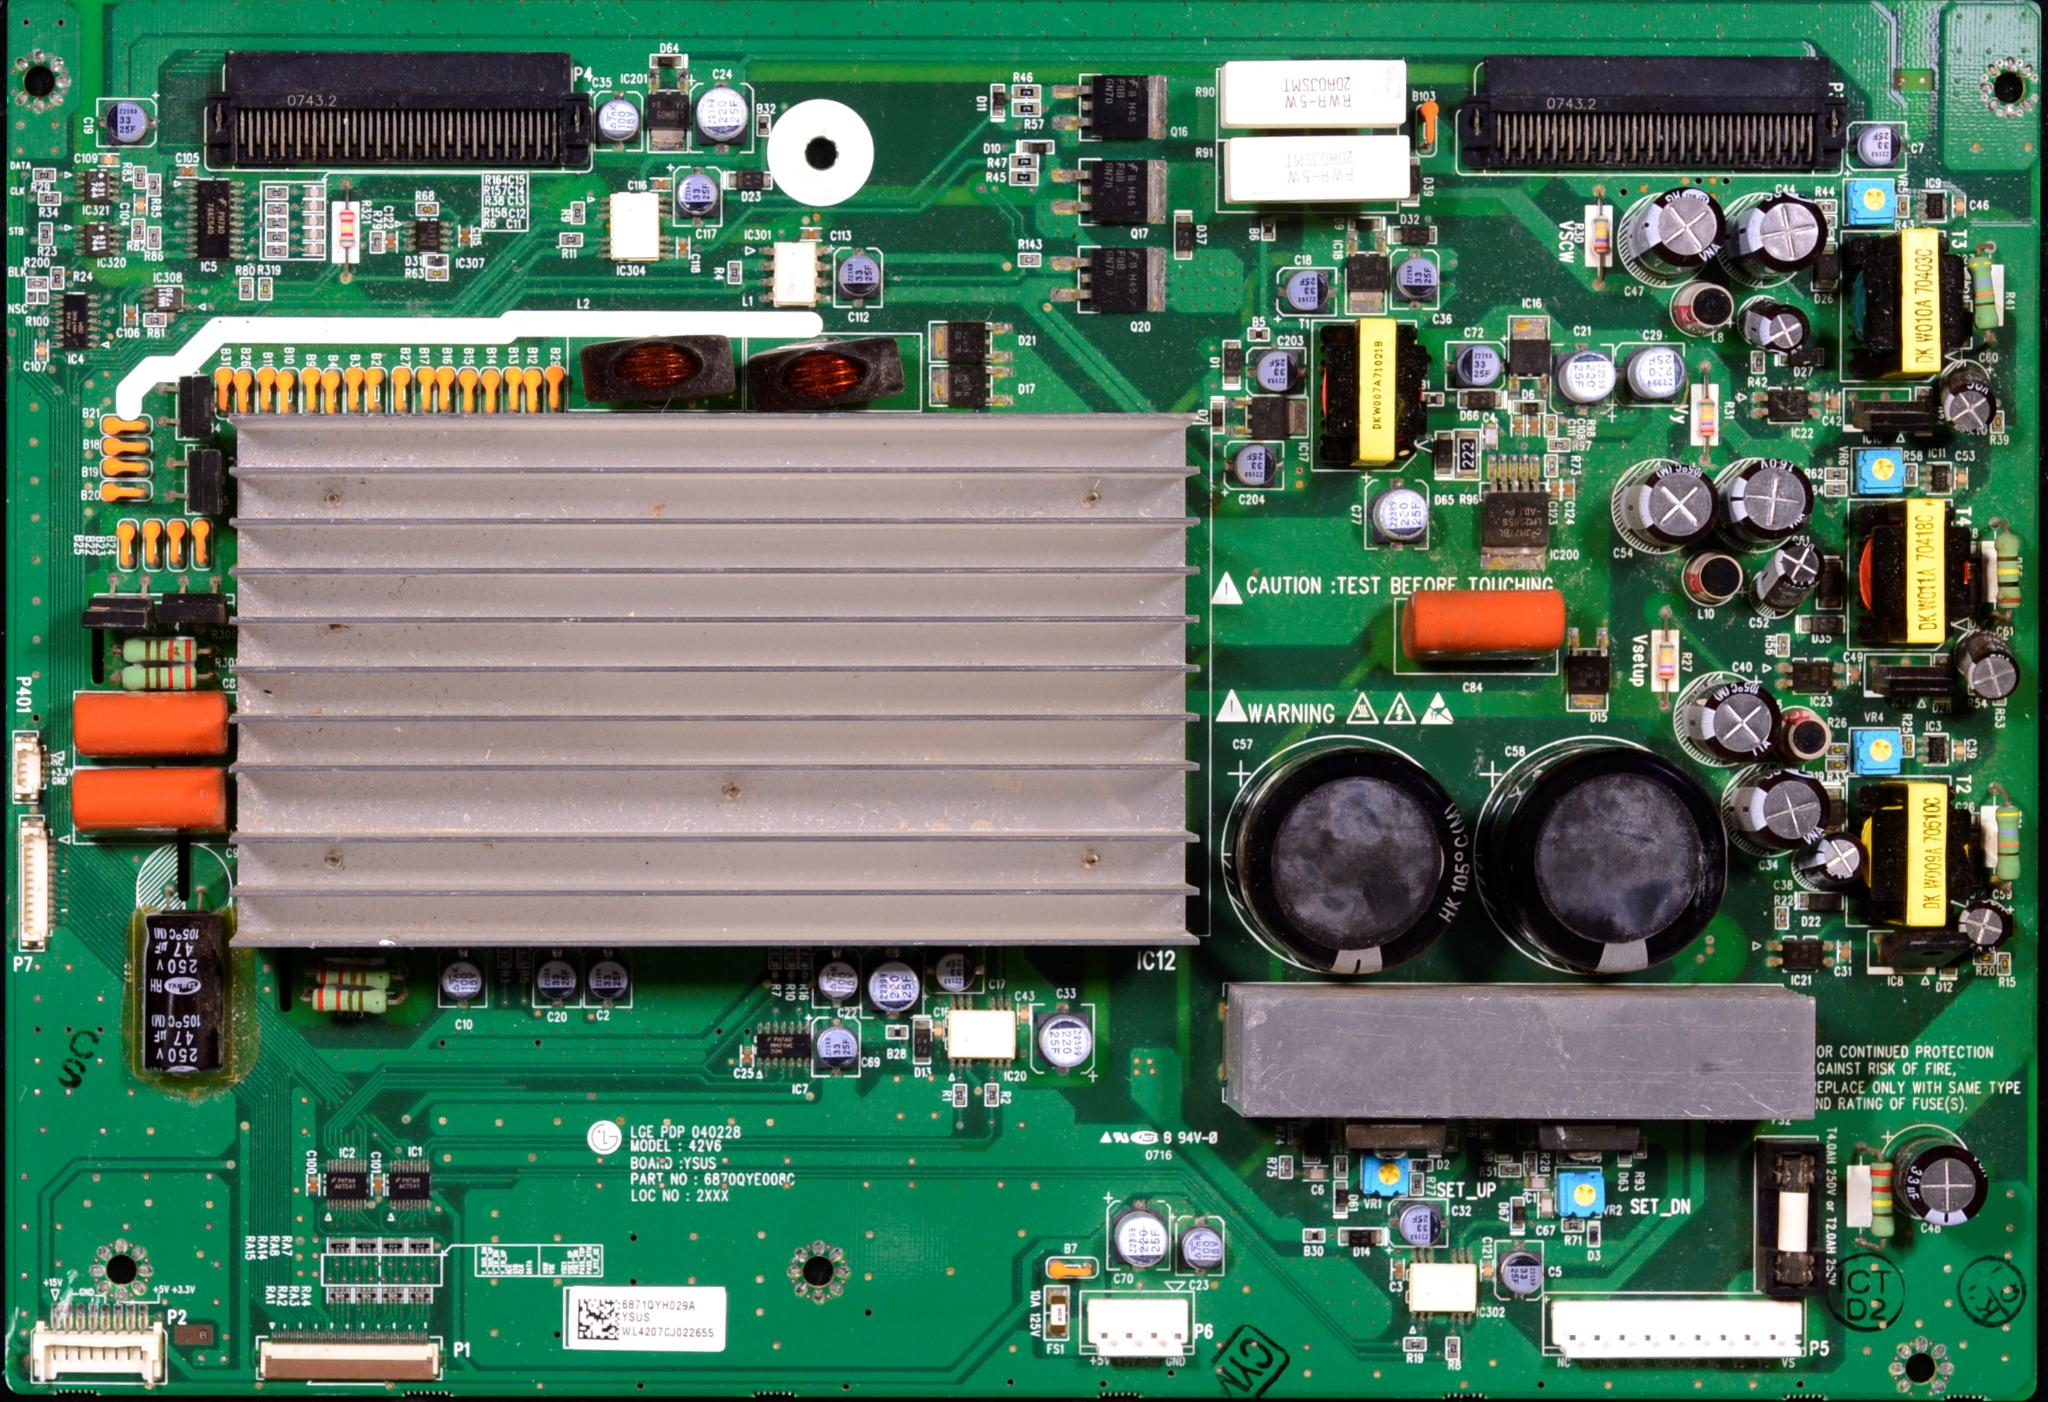Capacitor Jumper: (1226, 736, 1471, 976), (1483, 739, 1727, 973), (1390, 587, 1561, 677), (1620, 190, 1709, 283), (1721, 191, 1807, 288), (1625, 459, 1720, 545), (1902, 1137, 1986, 1226), (1732, 769, 1829, 843), (1690, 683, 1782, 758), (1732, 459, 1811, 535), (1754, 538, 1824, 613), (1553, 344, 1615, 422), (1030, 1005, 1094, 1075), (1366, 476, 1427, 548), (1617, 344, 1685, 406), (1111, 1200, 1169, 1273), (693, 84, 750, 152), (1944, 364, 1994, 431), (1805, 829, 1866, 882), (1745, 303, 1810, 352), (1180, 1203, 1223, 1274), (672, 166, 724, 227), (1962, 632, 2014, 691), (1276, 268, 1338, 316), (1391, 251, 1441, 310), (95, 98, 156, 146), (836, 244, 882, 305), (1496, 1237, 1542, 1296), (1247, 349, 1307, 394), (1446, 339, 1502, 387), (1225, 439, 1281, 487), (598, 93, 643, 152), (865, 963, 924, 1007), (1391, 1200, 1449, 1243), (1849, 123, 1906, 166), (587, 952, 636, 1001), (439, 955, 484, 1008), (812, 1019, 853, 1075), (809, 957, 854, 1007), (537, 957, 579, 1007), (1959, 904, 2012, 943), (934, 948, 974, 988), (1482, 420, 1499, 451), (1301, 1161, 1329, 1178), (1539, 1192, 1553, 1218), (1016, 999, 1030, 1024), (1480, 1257, 1494, 1282), (1827, 389, 1841, 414), (1527, 409, 1539, 437), (1952, 193, 1967, 215), (1953, 736, 1966, 762), (1548, 475, 1561, 501), (798, 229, 823, 241), (36, 336, 48, 361), (1955, 464, 1967, 489), (1562, 478, 1576, 499), (1847, 663, 1861, 685), (372, 1172, 384, 1195), (1391, 1254, 1404, 1278), (124, 303, 137, 327), (1525, 1175, 1547, 1187), (176, 165, 198, 177), (95, 154, 121, 163), (134, 195, 145, 215), (308, 1170, 317, 1193), (1513, 414, 1522, 437), (388, 232, 395, 252), (680, 240, 688, 258)
Connector: (205, 50, 593, 171), (1457, 56, 1841, 171), (1550, 1295, 1810, 1357), (31, 1298, 163, 1385), (251, 1330, 440, 1380), (1078, 1288, 1195, 1363), (19, 814, 53, 952), (16, 730, 40, 803)
IC: (1483, 476, 1548, 570), (1407, 1248, 1475, 1326), (184, 177, 244, 260), (601, 195, 669, 261), (758, 241, 826, 308), (755, 1016, 809, 1075), (1231, 395, 1309, 436), (1510, 314, 1547, 394), (1746, 387, 1821, 422), (646, 87, 685, 152), (1345, 252, 1385, 314), (1774, 658, 1846, 692), (391, 1155, 431, 1209), (1765, 935, 1832, 968), (56, 296, 96, 349), (327, 1158, 367, 1206), (76, 221, 120, 257), (405, 221, 456, 251), (78, 173, 117, 207), (1920, 461, 1955, 493), (1917, 190, 1948, 221), (1917, 731, 1945, 766), (146, 288, 185, 307)
Resistor Jumper: (1214, 59, 1410, 126), (1223, 134, 1407, 199), (1987, 783, 2029, 881), (1990, 518, 2026, 627), (1972, 246, 2004, 352), (114, 632, 216, 661), (1869, 1144, 1897, 1245), (305, 988, 402, 1016), (302, 966, 400, 993), (1695, 364, 1718, 467), (110, 666, 221, 686), (1654, 618, 1676, 708), (1586, 202, 1611, 268), (335, 201, 358, 263), (1454, 429, 1478, 478), (1008, 154, 1038, 170), (1013, 86, 1040, 100), (1018, 252, 1041, 268), (1541, 412, 1556, 436), (985, 1080, 999, 1105), (1989, 411, 2004, 433), (1012, 101, 1038, 114), (1751, 347, 1763, 373), (1279, 1155, 1293, 1178), (1410, 1170, 1424, 1193), (727, 260, 741, 283), (1774, 904, 1788, 926), (1561, 1215, 1583, 1229), (1824, 465, 1846, 479), (1824, 758, 1847, 770), (954, 1083, 966, 1106), (148, 173, 160, 196), (423, 268, 450, 279), (34, 168, 59, 179), (1012, 171, 1036, 182), (1895, 196, 1908, 218), (417, 202, 439, 215), (39, 223, 51, 244), (560, 233, 582, 246), (240, 277, 252, 299), (1446, 1337, 1460, 1355), (39, 193, 62, 204), (53, 266, 64, 289), (26, 289, 50, 300), (1905, 462, 1916, 485), (1827, 742, 1847, 755), (1975, 951, 1995, 963), (1524, 1151, 1536, 1172), (1500, 1162, 1520, 1175), (1902, 734, 1913, 756), (1335, 1155, 1346, 1176), (573, 202, 584, 224), (372, 230, 383, 252), (1405, 1337, 1426, 1348), (258, 279, 269, 299), (1550, 439, 1570, 450), (2000, 951, 2009, 973), (132, 166, 143, 185), (1816, 201, 1835, 212), (1545, 454, 1555, 476), (1825, 485, 1844, 496), (1779, 635, 1790, 654), (149, 229, 159, 249), (132, 219, 142, 238), (28, 279, 50, 286)
Transistor: (1060, 247, 1169, 314), (1063, 76, 1167, 143), (1066, 154, 1163, 224), (157, 571, 229, 640), (79, 573, 156, 632), (156, 370, 212, 440), (168, 448, 227, 510)
